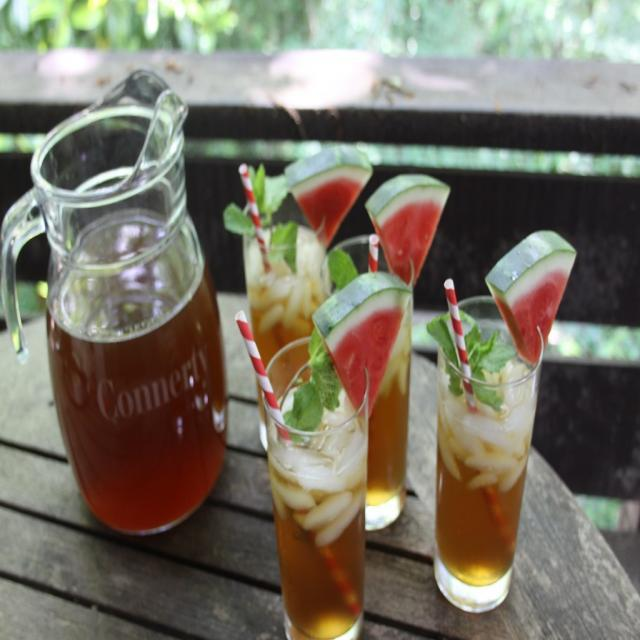Watermelon: (308, 266, 408, 418), (487, 230, 575, 360), (367, 174, 453, 288), (283, 147, 373, 250)
